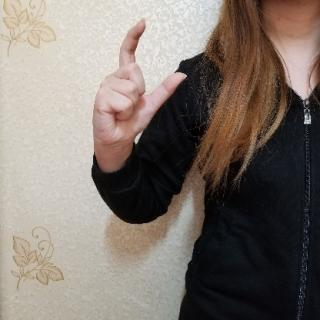NOON: (91, 14, 187, 169)
